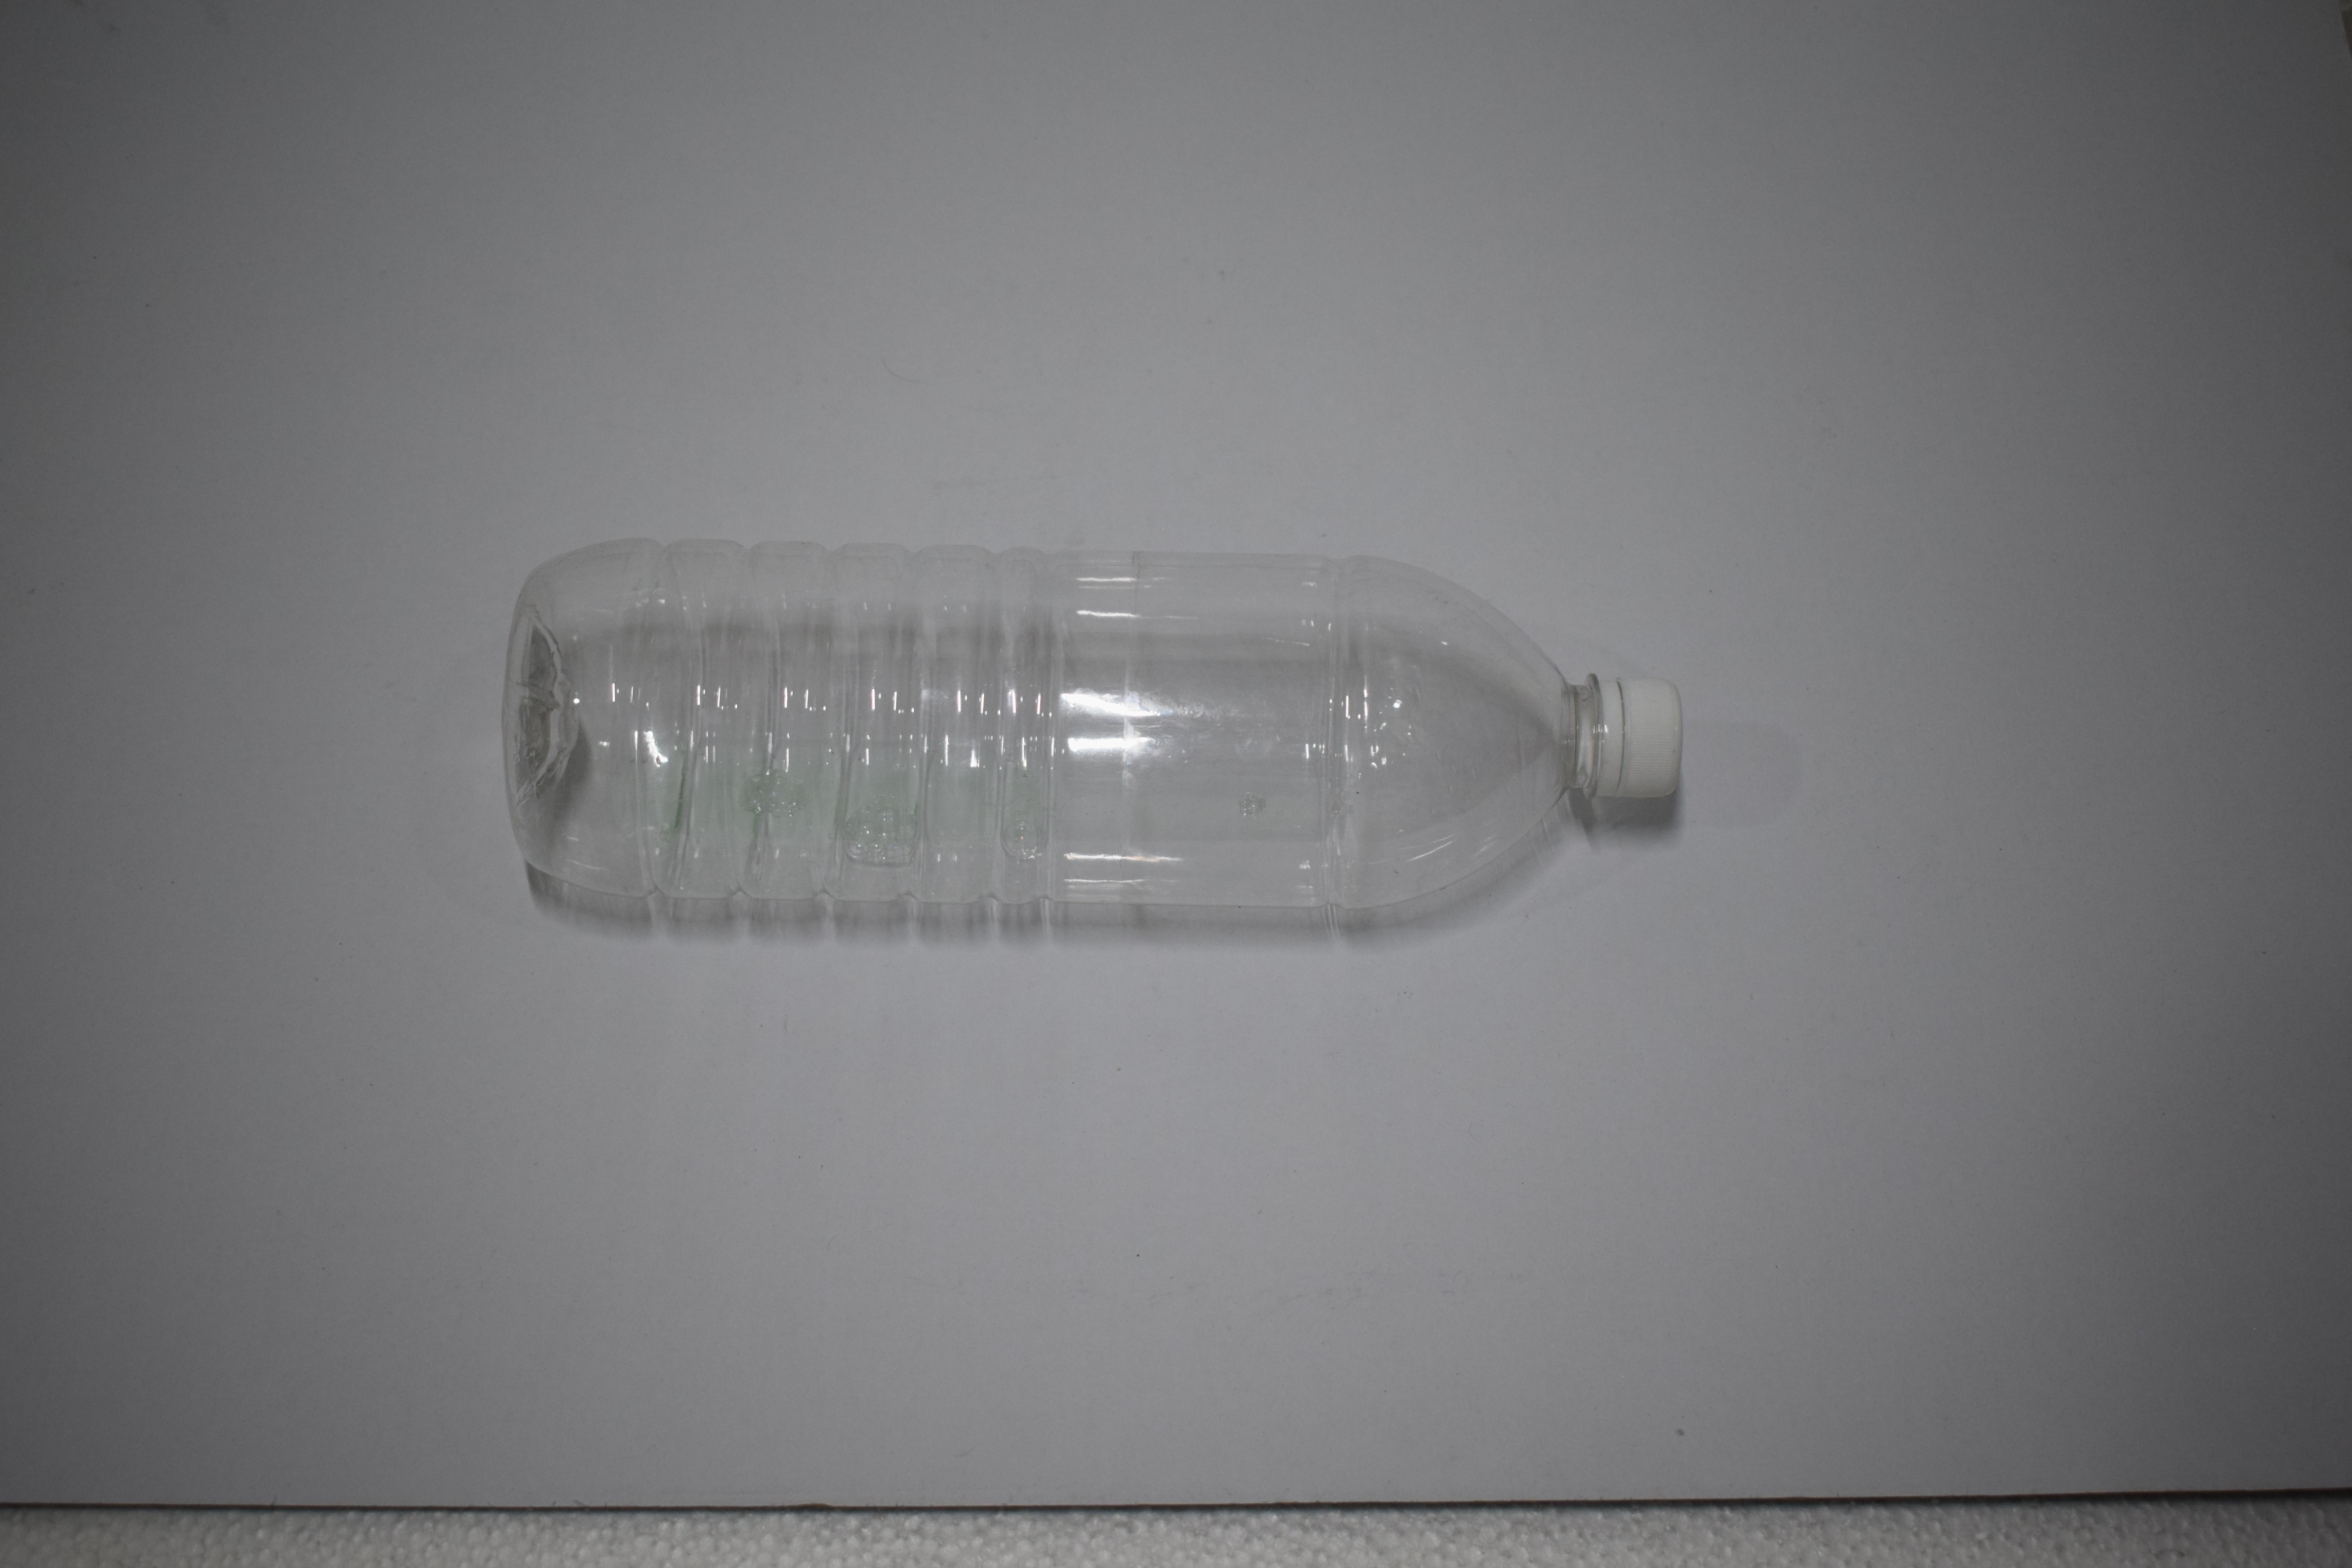bottle: (1074, 518, 1090, 929)
